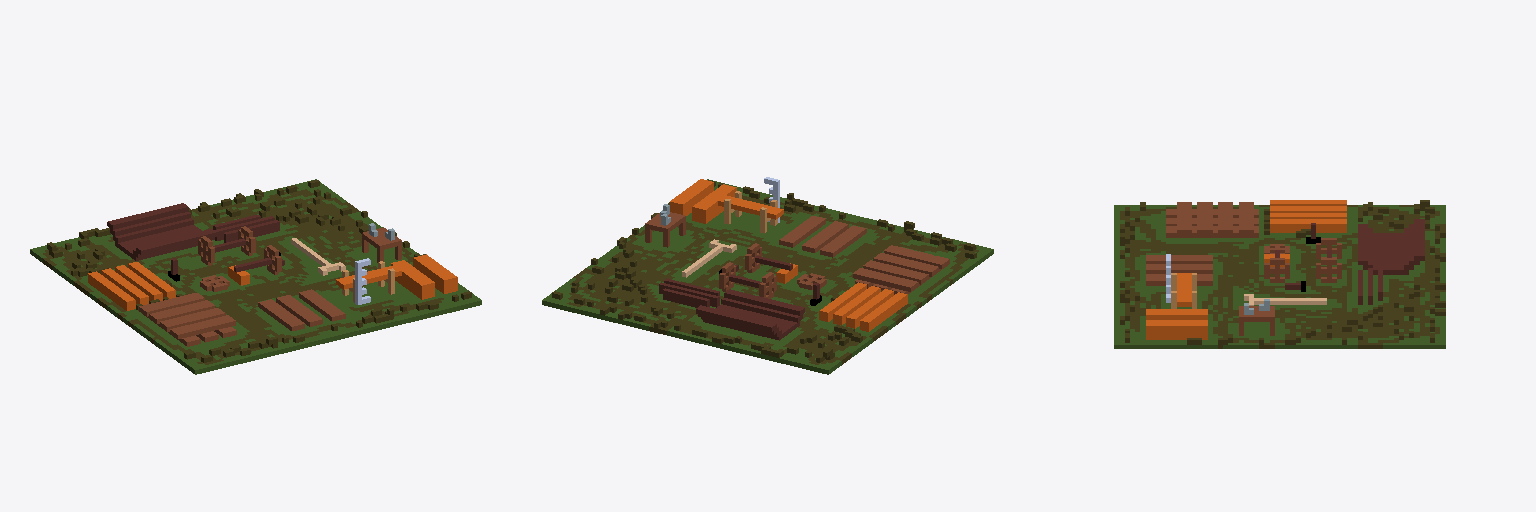
3 views of the same model, side by side, from view 1: azimuth 30°, elevation 25°; view 2: azimuth 150°, elevation 25°; view 3: azimuth 270°, elevation 25° (orthographic).
Visible parts, largest first — view 1: object 1; view 2: object 1; view 3: object 1.
Part boxes in pixels (left/top/right/bottom): object 1: left=30, top=179, right=481, bottom=374; object 1: left=542, top=177, right=993, bottom=374; object 1: left=1114, top=200, right=1445, bottom=348.
Size of the model in its own units: 6.4 by 1 by 6.4.
Materials: 1 (1 with a texture image).